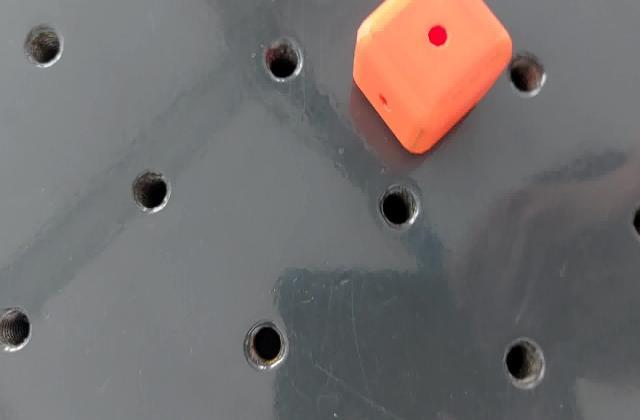cube: (350, 0, 516, 159)
